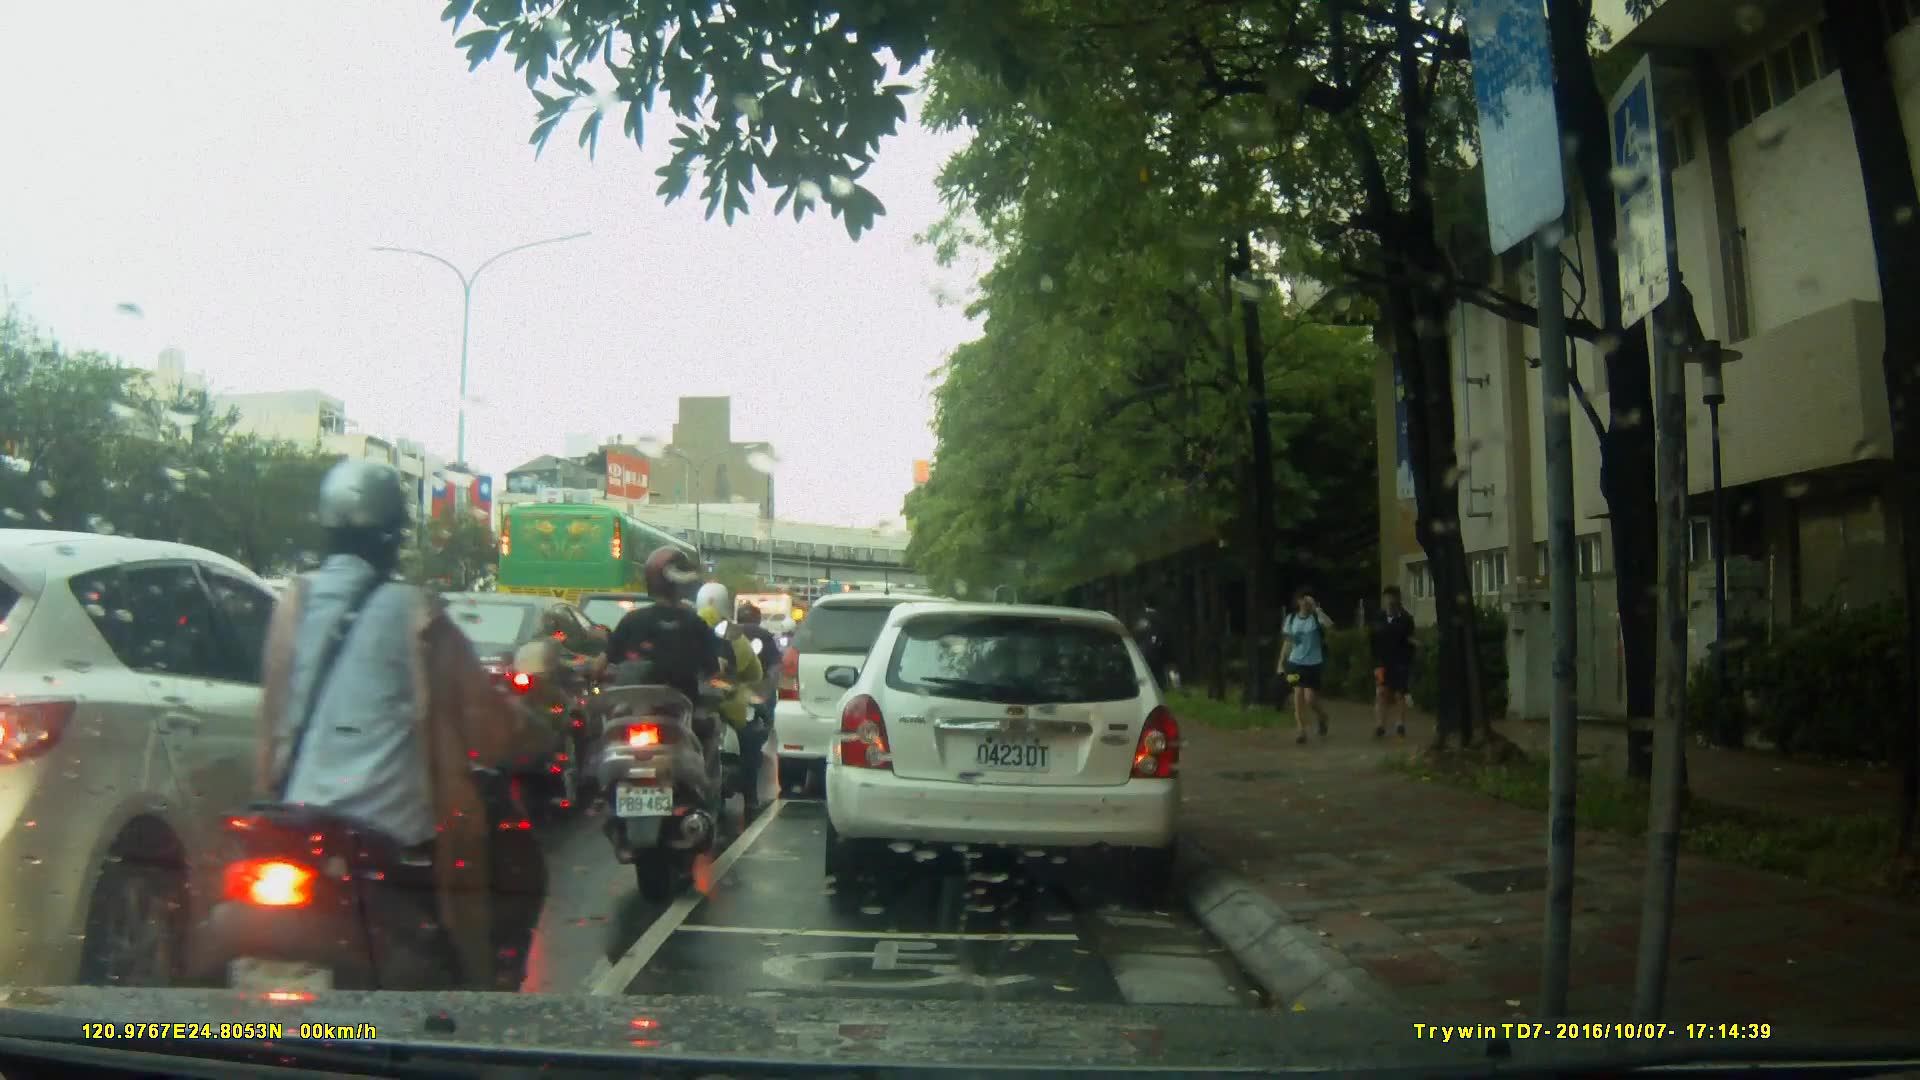pedestrian: (1264, 584, 1352, 749), (1364, 578, 1423, 751), (1128, 594, 1174, 741)
rider: (205, 458, 561, 1057), (597, 548, 728, 887), (681, 578, 768, 810), (768, 617, 812, 714)
vehicle: (1, 529, 445, 987), (831, 592, 1196, 897), (312, 590, 645, 807), (770, 592, 999, 801), (495, 501, 707, 638)
